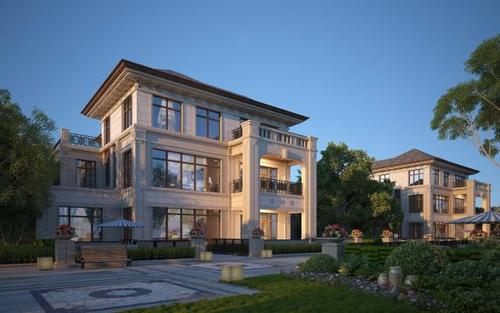buildings: (41, 62, 330, 251)
